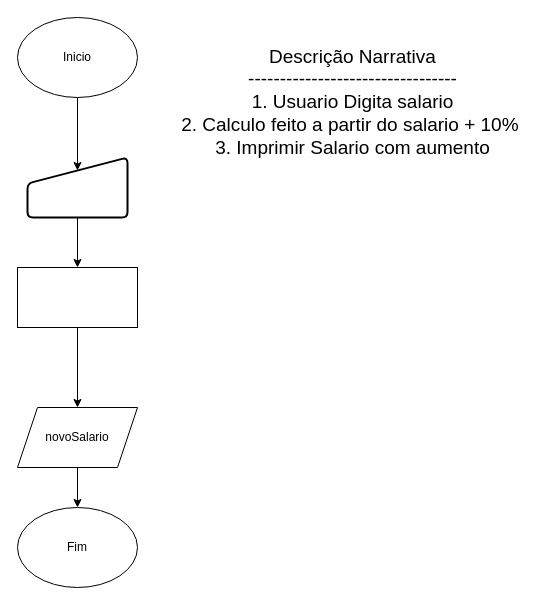
This 555x605 diagram has some shape labels left out. Here are the shapes that lost their labels. From the top down, the centre of each, then its label:
(77,187): Recebe Salario
(77,297): novoSalario = Salario + (salario * 10/100)
